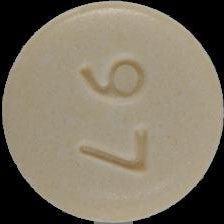60687-191: (0, 0, 224, 224)
